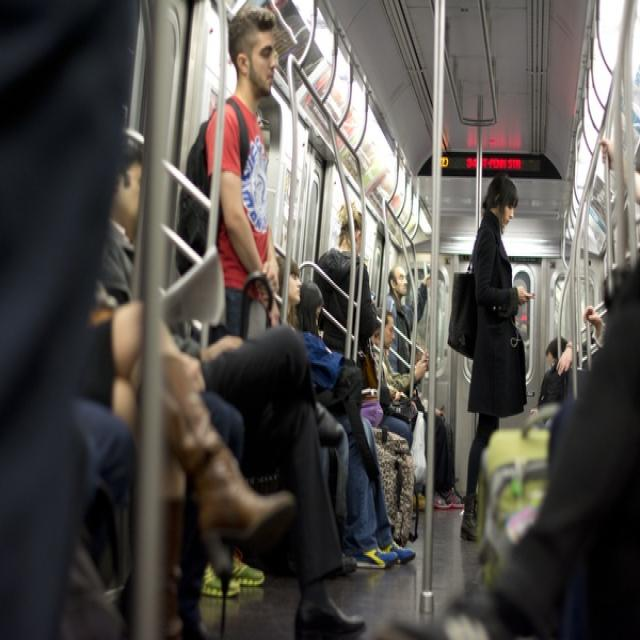body: (93, 134, 370, 640), (0, 4, 145, 638), (172, 5, 287, 600), (273, 251, 419, 571), (146, 282, 298, 584), (539, 245, 639, 635), (442, 164, 538, 546), (378, 510, 538, 636), (309, 198, 380, 370), (355, 310, 415, 452), (372, 304, 431, 446), (385, 262, 432, 376), (424, 392, 465, 512), (598, 137, 639, 220), (296, 278, 326, 336)
